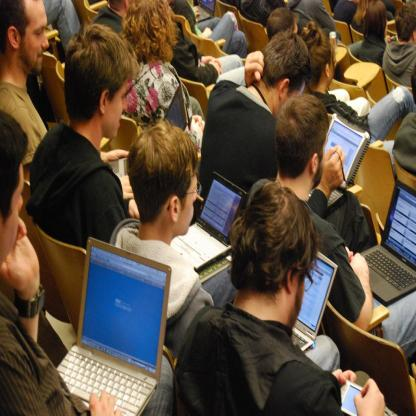board: (56, 234, 172, 416), (170, 170, 248, 272), (359, 178, 416, 307), (118, 83, 189, 178), (308, 112, 372, 214), (291, 250, 338, 354), (192, 0, 215, 22)
